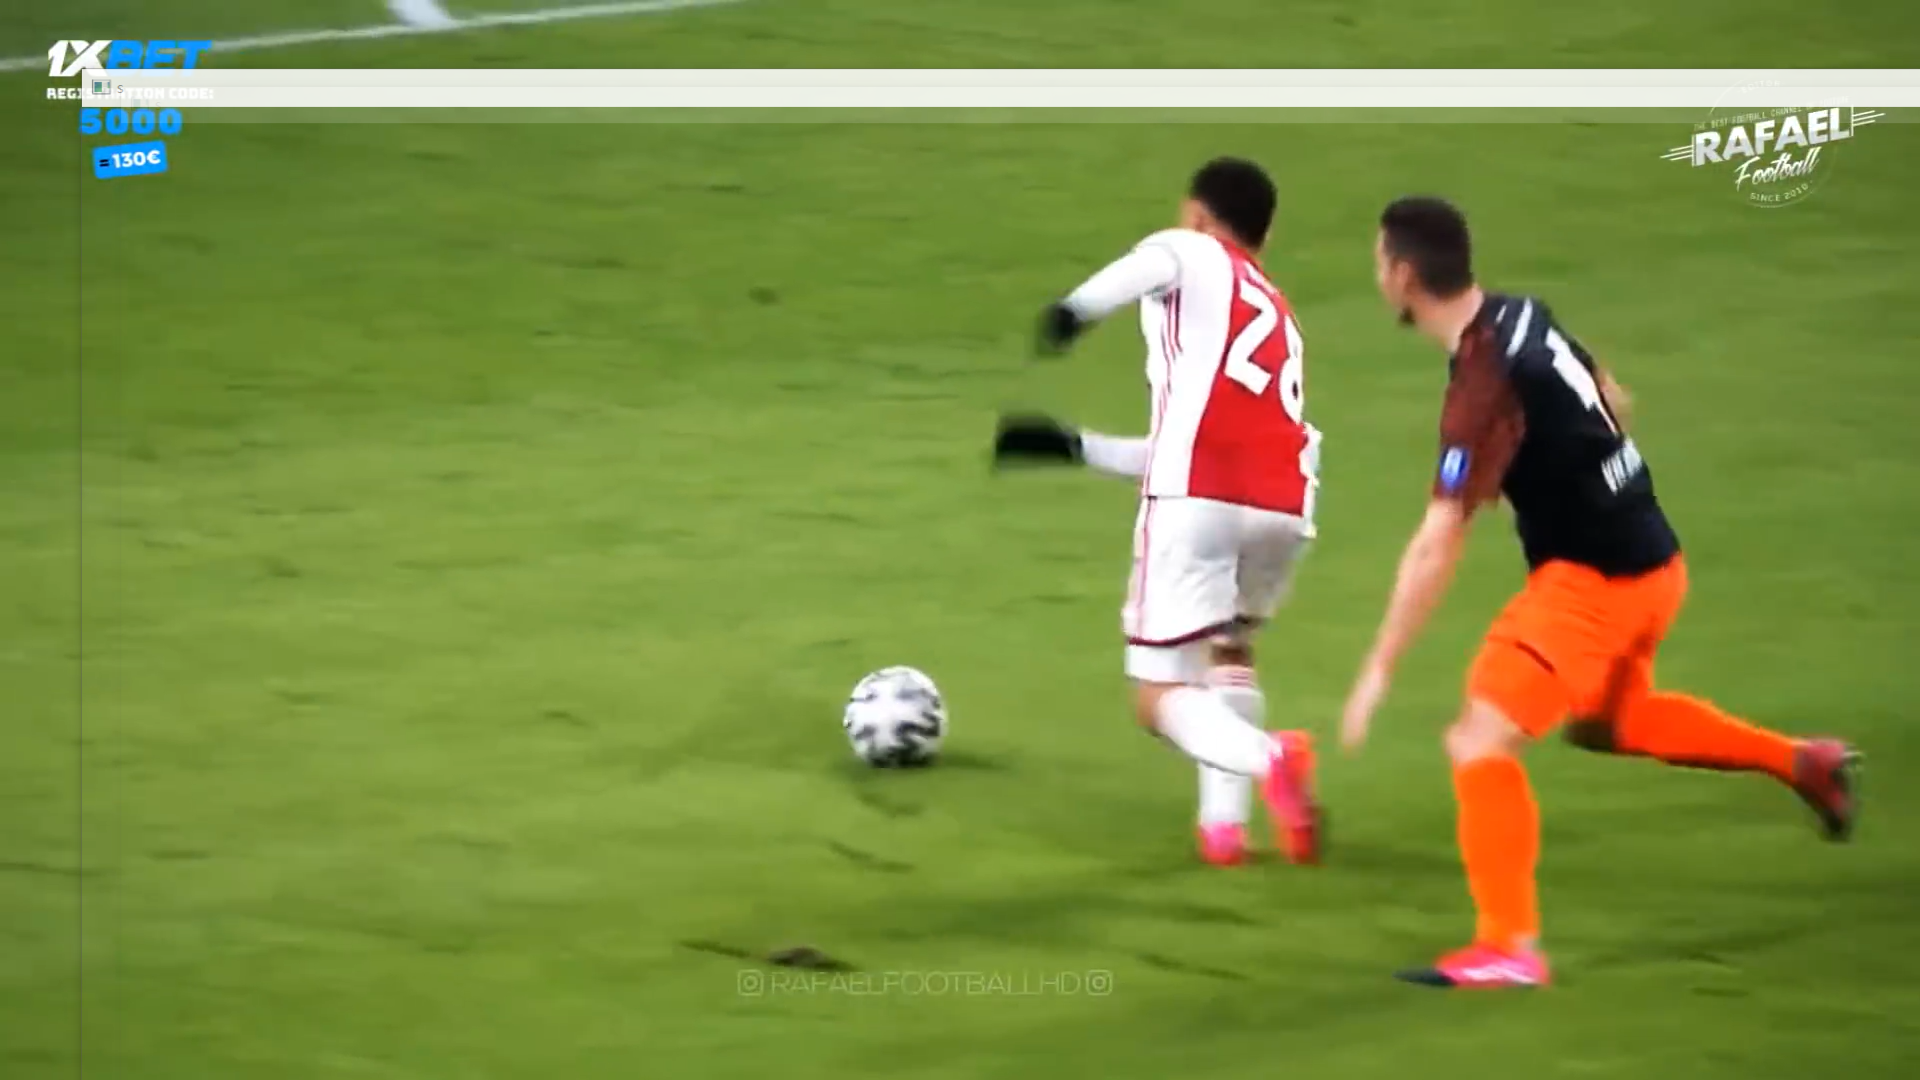ft: (829, 659, 951, 781)
